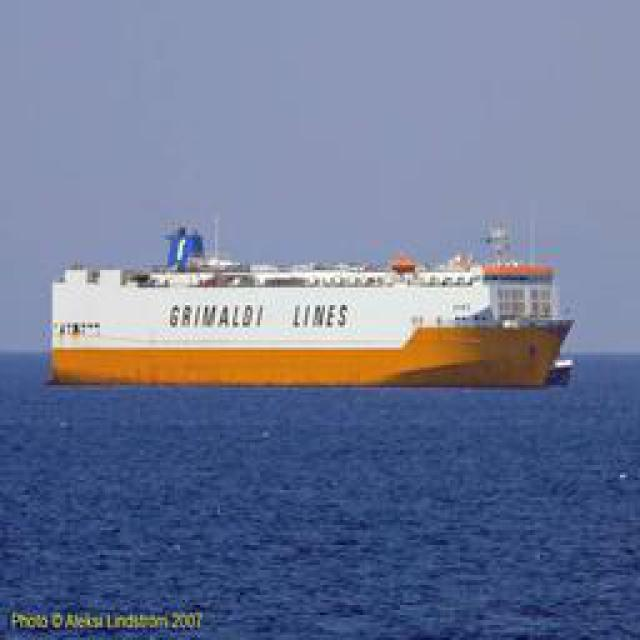Ship: (43, 214, 568, 377)
